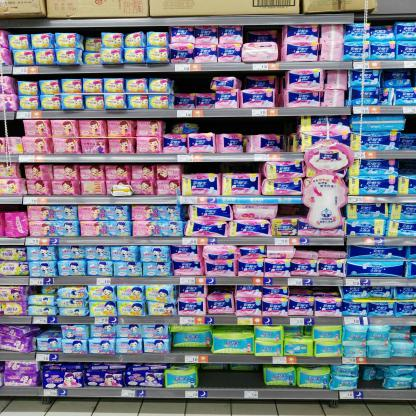Void: (198, 363, 268, 387), (198, 118, 299, 134), (182, 162, 261, 172), (358, 366, 387, 390), (244, 26, 282, 44), (177, 74, 211, 92), (281, 204, 308, 219), (3, 121, 24, 135), (400, 160, 416, 178), (403, 115, 415, 136), (1, 202, 25, 212), (38, 324, 58, 336)
